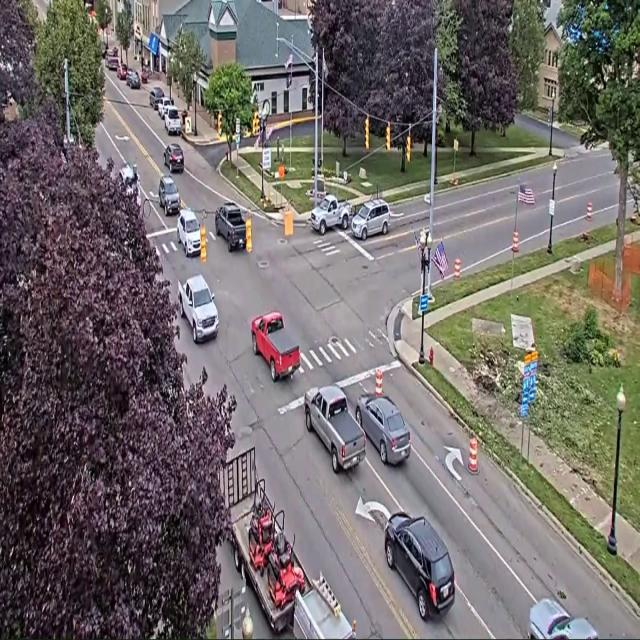car: (385, 512, 455, 620), (355, 395, 410, 464), (528, 599, 597, 639), (352, 200, 390, 240), (177, 209, 200, 256), (120, 164, 141, 206), (158, 176, 180, 215), (164, 144, 183, 173), (164, 106, 182, 135), (158, 95, 174, 119), (149, 87, 164, 110), (127, 70, 140, 88), (106, 54, 119, 71), (117, 64, 128, 79), (140, 67, 148, 83), (108, 47, 118, 56), (102, 43, 108, 58)
traffic signal: (245, 217, 252, 252), (200, 225, 206, 262), (252, 112, 259, 135), (406, 135, 411, 161), (365, 117, 369, 149), (386, 123, 390, 151), (217, 112, 221, 135)
truck: (220, 448, 354, 638), (304, 386, 365, 473), (293, 575, 355, 639), (251, 312, 300, 382), (178, 275, 218, 343), (310, 195, 352, 235), (215, 203, 246, 252)
